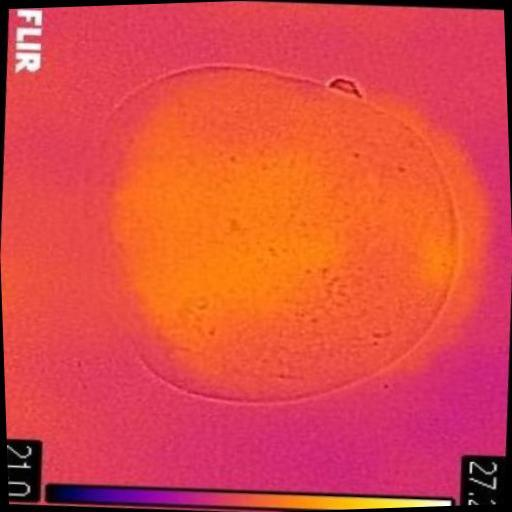alphanso: (108, 69, 457, 400)
